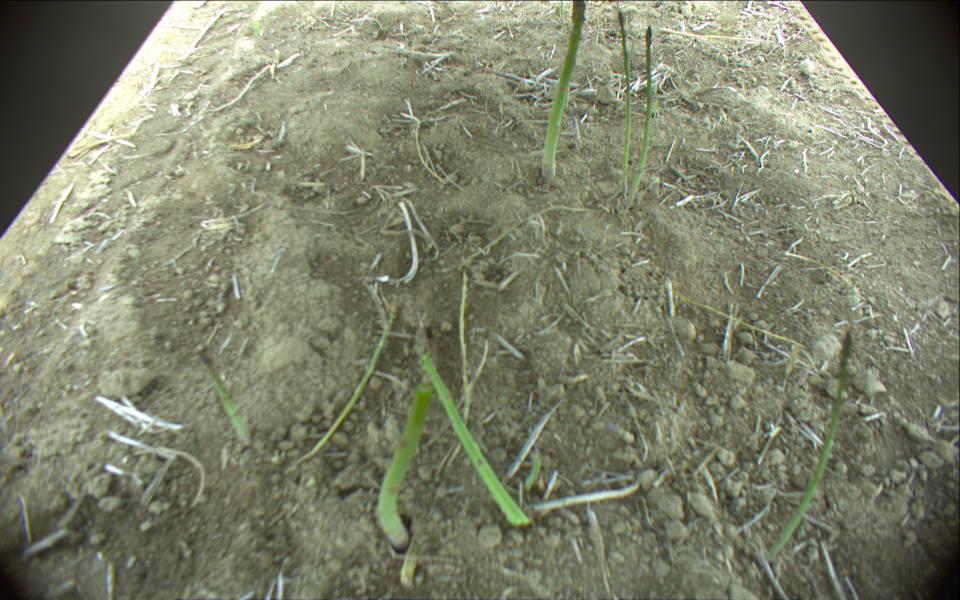aspa: (411, 326, 534, 526), (765, 329, 854, 559), (287, 297, 399, 469), (376, 384, 436, 551), (541, 1, 588, 180), (197, 349, 251, 448), (626, 24, 655, 207), (615, 8, 633, 195)
